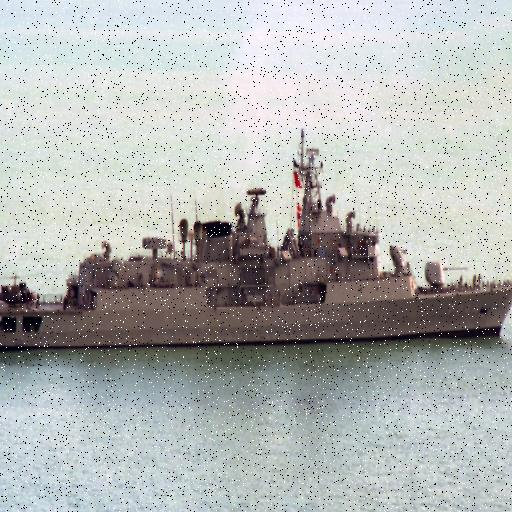Fragata: (1, 119, 512, 359)
